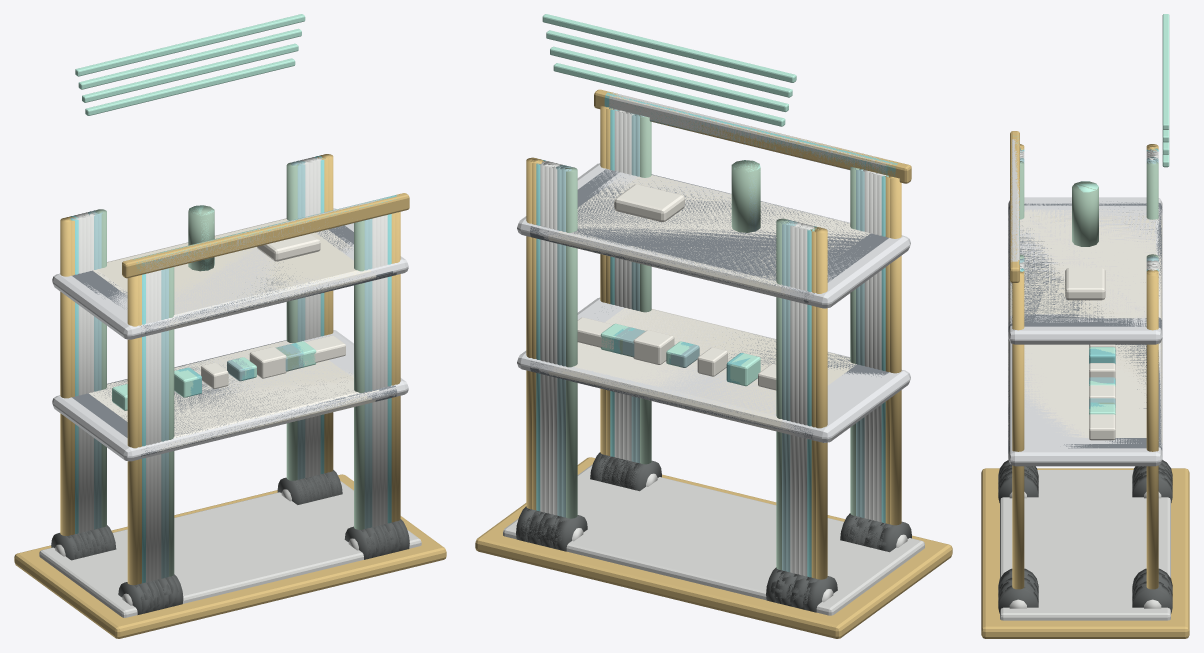
The model's file is Gear07.fbx.
The picture shows the model from 3 angles, left to right: view 1: azimuth 30°, elevation 25°; view 2: azimuth 150°, elevation 25°; view 3: azimuth 270°, elevation 25°; orthographic projection. The views are drawn at different scales.
Visible parts, largest first — view 1: Gear07_V10_Gold, Gear07_V8_Chrome, Gear07_V10_Platinum, Gear07_V9_Gold, Gear07_V2_Ivory, Gear07_V1_Sage, Gear07_V3_Linen, Gear07_V10_Chrome, Gear07_V6_Chrome, Gear07_V8_Aqua, Gear07_V4_Chrome, Gear07_V5_Chrome (+25 smaller); view 2: Gear07_V9_Gold, Gear07_V10_Gold, Gear07_V4_Linen, Gear07_V9_Chrome, Gear07_V8_Graphite, Gear07_V10_Platinum, Gear07_V1_Sage, Gear07_V1_Ivory, Gear07_V8_Chrome, Gear07_V6_Chrome, Gear07_V8_Aqua, Gear07_V7_Chrome (+24 smaller); view 3: Gear07_V10_Chrome, Gear07_V10_Gold, Gear07_V3_Linen, Gear07_V4_Linen, Gear07_V10_Platinum, Gear07_V8_Chrome, Gear07_V9_Gold, Gear07_V6_Platinum, Gear07_V9_Chrome, Gear07_V1_Ivory, Gear07_V7_Graphite, Gear07_V8_Graphite (+17 smaller).
Boxes of the visible parts, x1,y1,x2,y2 form: Gear07_V10_Gold: [14, 154, 446, 638]; Gear07_V8_Chrome: [68, 492, 357, 612]; Gear07_V10_Platinum: [52, 208, 408, 461]; Gear07_V9_Gold: [22, 155, 440, 637]; Gear07_V2_Ivory: [97, 218, 371, 449]; Gear07_V1_Sage: [95, 162, 364, 576]; Gear07_V3_Linen: [93, 233, 376, 449]; Gear07_V10_Chrome: [39, 481, 421, 617]; Gear07_V6_Chrome: [76, 158, 388, 584]; Gear07_V8_Aqua: [70, 156, 398, 583]; Gear07_V4_Chrome: [83, 159, 376, 579]; Gear07_V5_Chrome: [81, 158, 379, 580]; Gear07_V9_Gold: [482, 91, 944, 637]; Gear07_V10_Gold: [475, 89, 952, 638]; Gear07_V4_Linen: [548, 175, 870, 435]; Gear07_V9_Chrome: [509, 471, 871, 614]; Gear07_V8_Graphite: [530, 169, 888, 439]; Gear07_V10_Platinum: [517, 163, 910, 442]; Gear07_V1_Sage: [565, 115, 859, 570]; Gear07_V1_Ivory: [562, 175, 856, 428]; Gear07_V8_Chrome: [515, 477, 911, 606]; Gear07_V6_Chrome: [543, 94, 889, 594]; Gear07_V8_Aqua: [536, 92, 897, 577]; Gear07_V7_Chrome: [539, 93, 891, 576]; Gear07_V10_Chrome: [1000, 470, 1170, 620]; Gear07_V10_Gold: [981, 131, 1189, 638]; Gear07_V3_Linen: [1008, 211, 1162, 443]; Gear07_V4_Linen: [1020, 209, 1162, 418]; Gear07_V10_Platinum: [1008, 197, 1162, 466]; Gear07_V8_Chrome: [1000, 474, 1170, 611]; Gear07_V9_Gold: [981, 133, 1189, 627]; Gear07_V6_Platinum: [1008, 205, 1162, 447]; Gear07_V9_Chrome: [1000, 472, 1170, 613]; Gear07_V1_Ivory: [1008, 216, 1162, 392]; Gear07_V7_Graphite: [1008, 203, 1162, 449]; Gear07_V8_Graphite: [1008, 201, 1161, 453].
Size of the model in its own units: 114 by 161 by 62.
